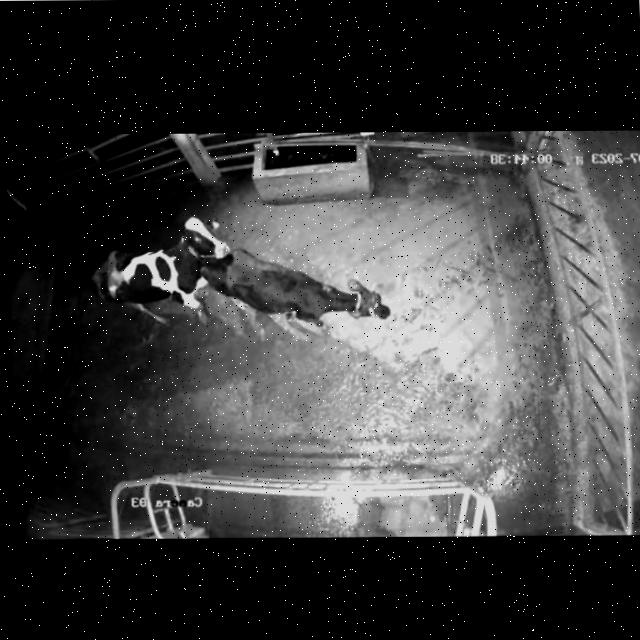propping: (165, 203, 258, 304)
stand: (199, 237, 410, 343)
